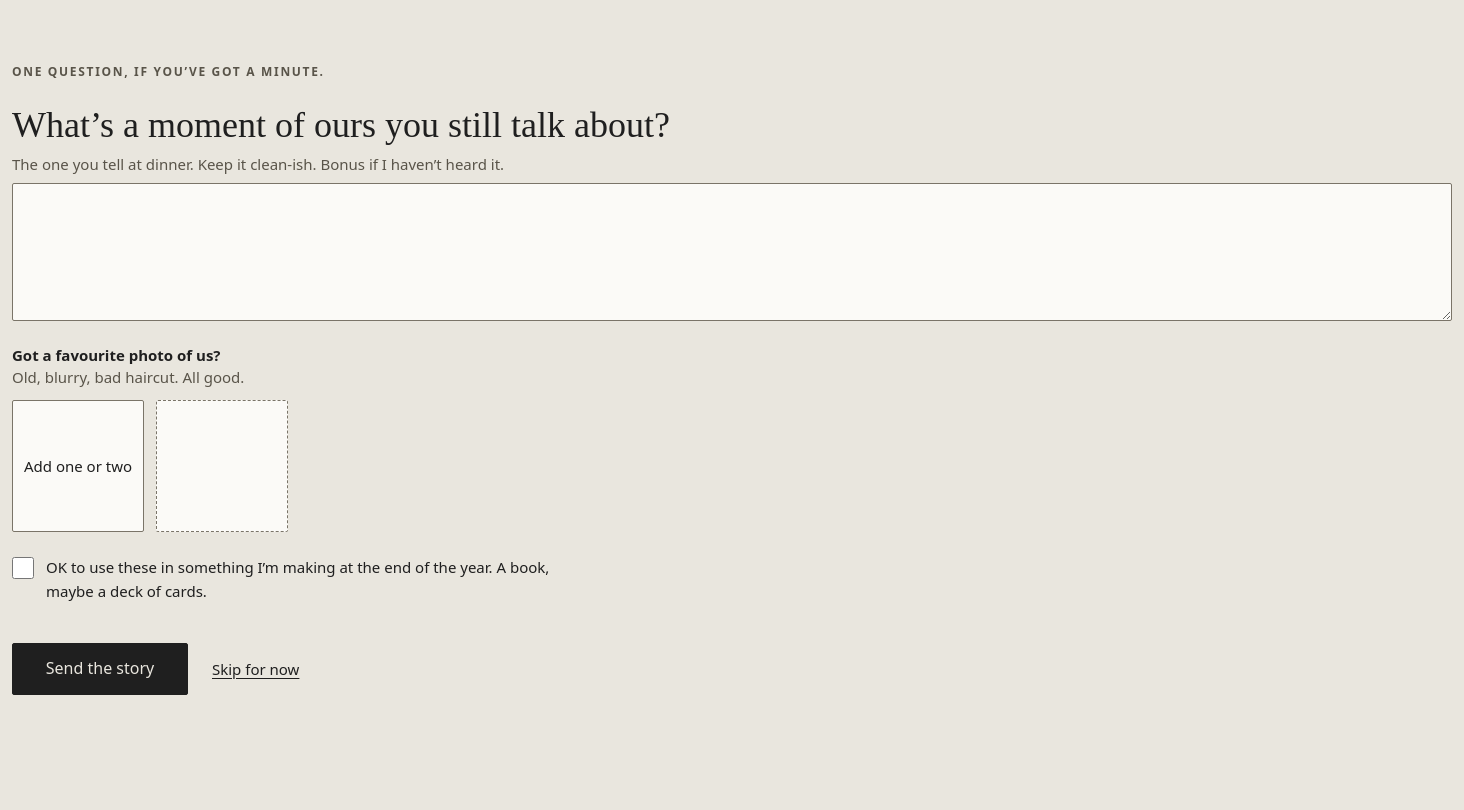
Scenario: StoryForm Send › a refused Send shows the server line as an alert with focus, and keeps what was typed
In the text box labelled "What’s a moment of ours you still talk about?": x=732, y=252 x1=12 y1=183 x2=1452 y2=321, type "hi"
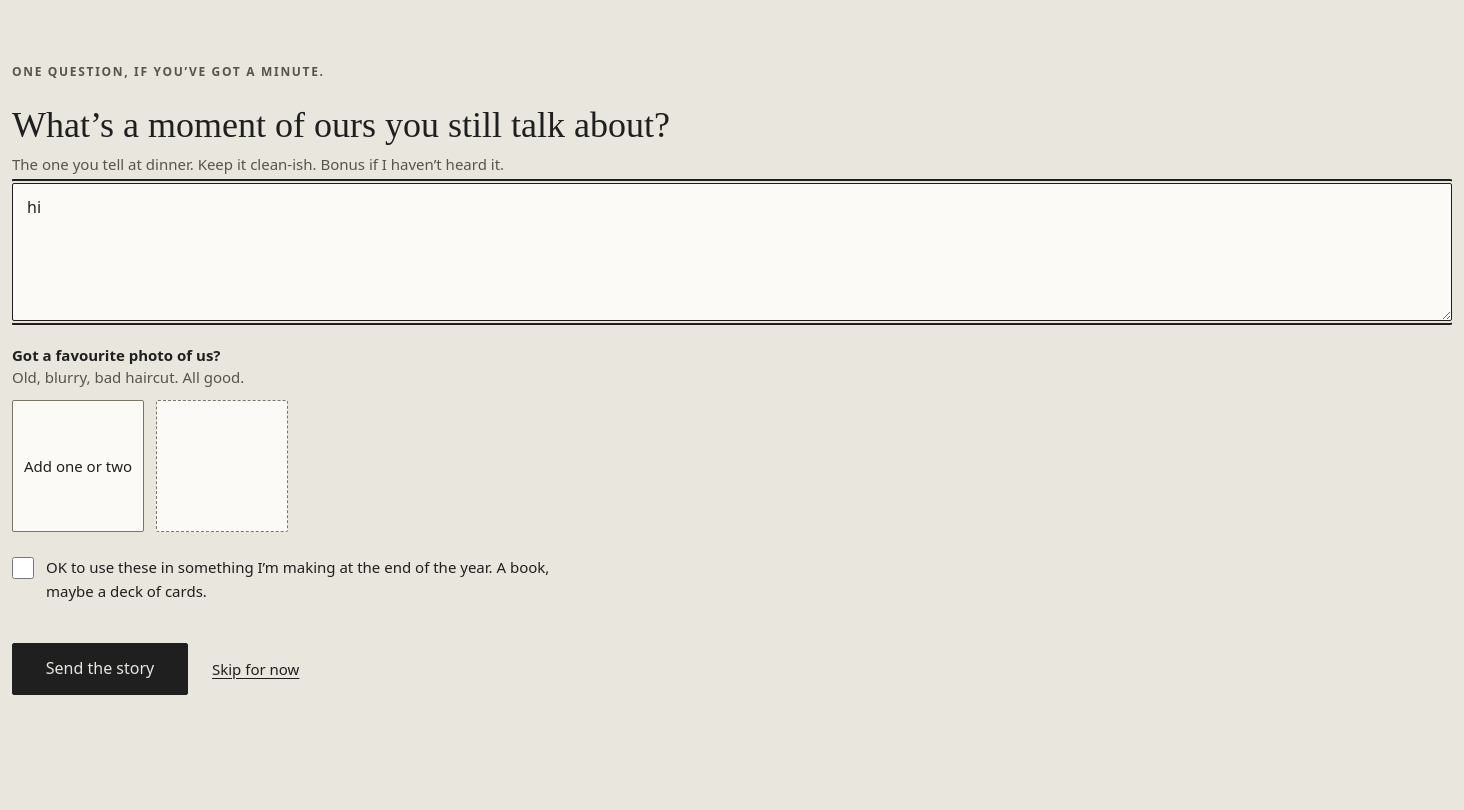
Click the button "Send the story": x=100, y=669 x1=12 y1=643 x2=188 y2=695
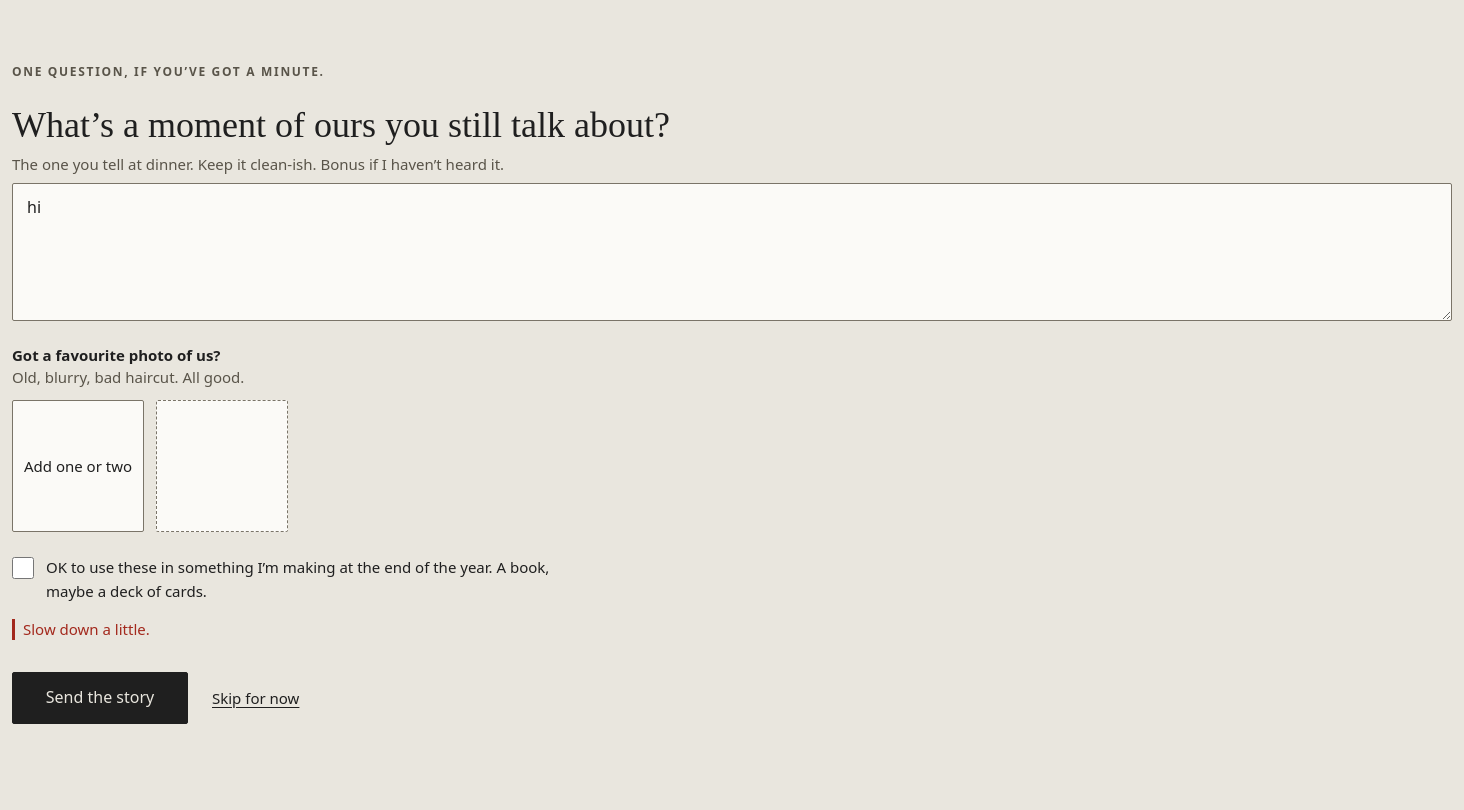
Expected: the message reads "Slow down a little.", x1=23 y1=619 x2=150 y2=639
